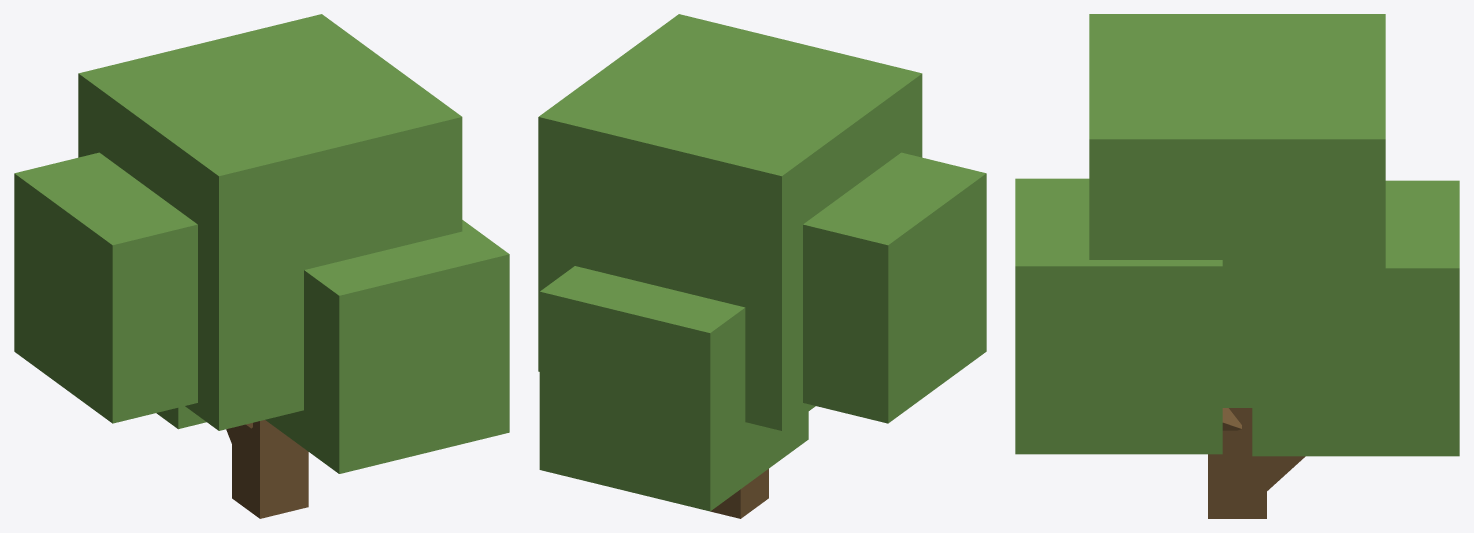
The model's file is bush.gltf.
The picture shows the model from 3 angles, left to right: view 1: azimuth 30°, elevation 25°; view 2: azimuth 150°, elevation 25°; view 3: azimuth 270°, elevation 25°; orthographic projection. The views are drawn at different scales.
Parts seen in each view (by area): view 1: leaves, main; view 2: leaves, main; view 3: leaves, main, side2.
Boxes of the visible parts, bbox=[...] form: leaves: bbox=[14, 14, 509, 473]; main: bbox=[232, 420, 308, 518]; leaves: bbox=[538, 14, 986, 511]; main: bbox=[710, 469, 768, 518]; leaves: bbox=[1015, 14, 1459, 456]; main: bbox=[1208, 408, 1266, 518]; side2: bbox=[1267, 456, 1305, 490].
Size of the model in its own units: 0.875 by 1 by 0.9375.
1 material, 1 textured.
